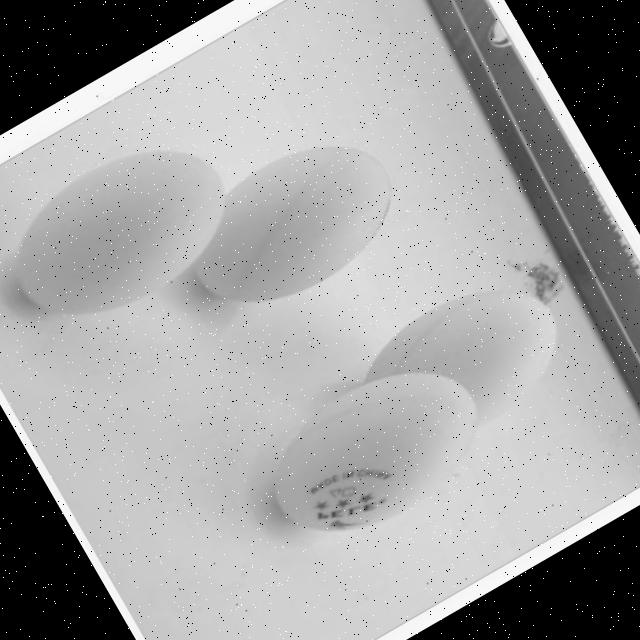ping-pong-ball: (240, 334, 510, 572), (0, 116, 258, 354), (161, 110, 425, 339), (345, 255, 586, 470)
